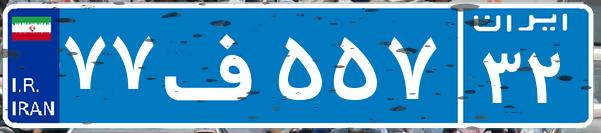2: (525, 38, 570, 115)
3: (475, 38, 525, 113)
5: (273, 28, 330, 110), (330, 28, 385, 110)
7: (385, 28, 445, 110), (57, 26, 110, 107), (110, 28, 158, 105)
ف: (158, 15, 273, 115)
